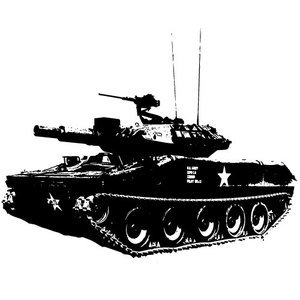Battle Tank: (1, 84, 296, 257)
